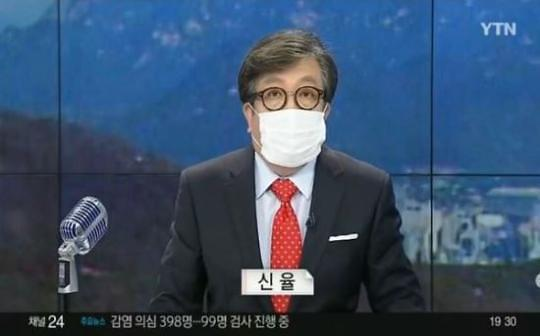mask: (252, 75, 331, 174)
